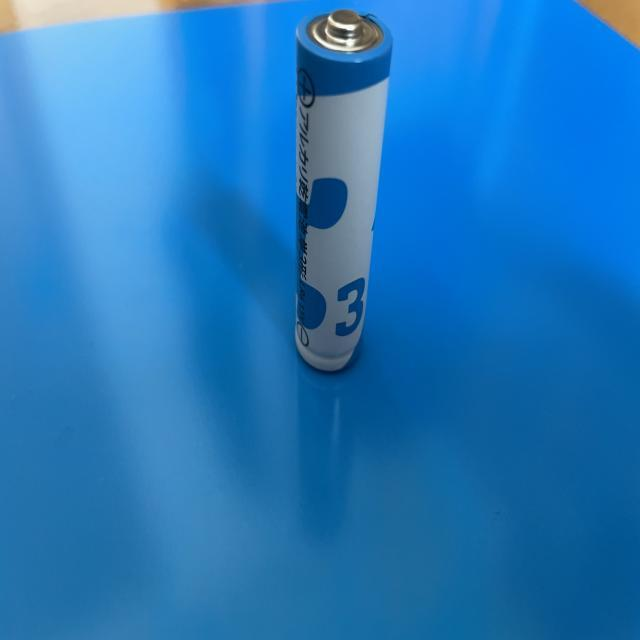hazardous waste: (288, 8, 394, 370)
